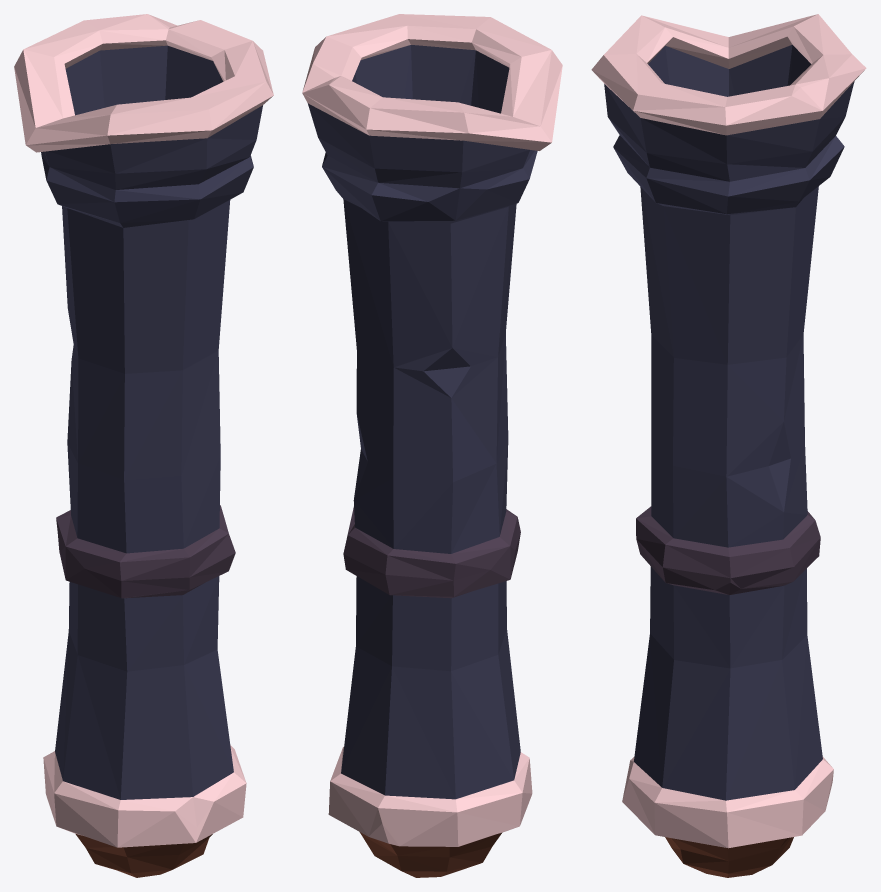
The model's file is SFFA_Arrow_Bag_002.fbx.
3 views of the same model, side by side, from view 1: azimuth 30°, elevation 25°; view 2: azimuth 150°, elevation 25°; view 3: azimuth 270°, elevation 25° (orthographic).
Parts seen in each view (by area): view 1: SFFA_Arrow_Bag_002; view 2: SFFA_Arrow_Bag_002; view 3: SFFA_Arrow_Bag_002.
Part boxes in pixels (x1,y1,x2,y2): SFFA_Arrow_Bag_002: [14, 14, 273, 877]; SFFA_Arrow_Bag_002: [302, 14, 562, 877]; SFFA_Arrow_Bag_002: [591, 14, 866, 877].
Bounding box in the file's own units: 20.18 × 65.35 × 20.04.
